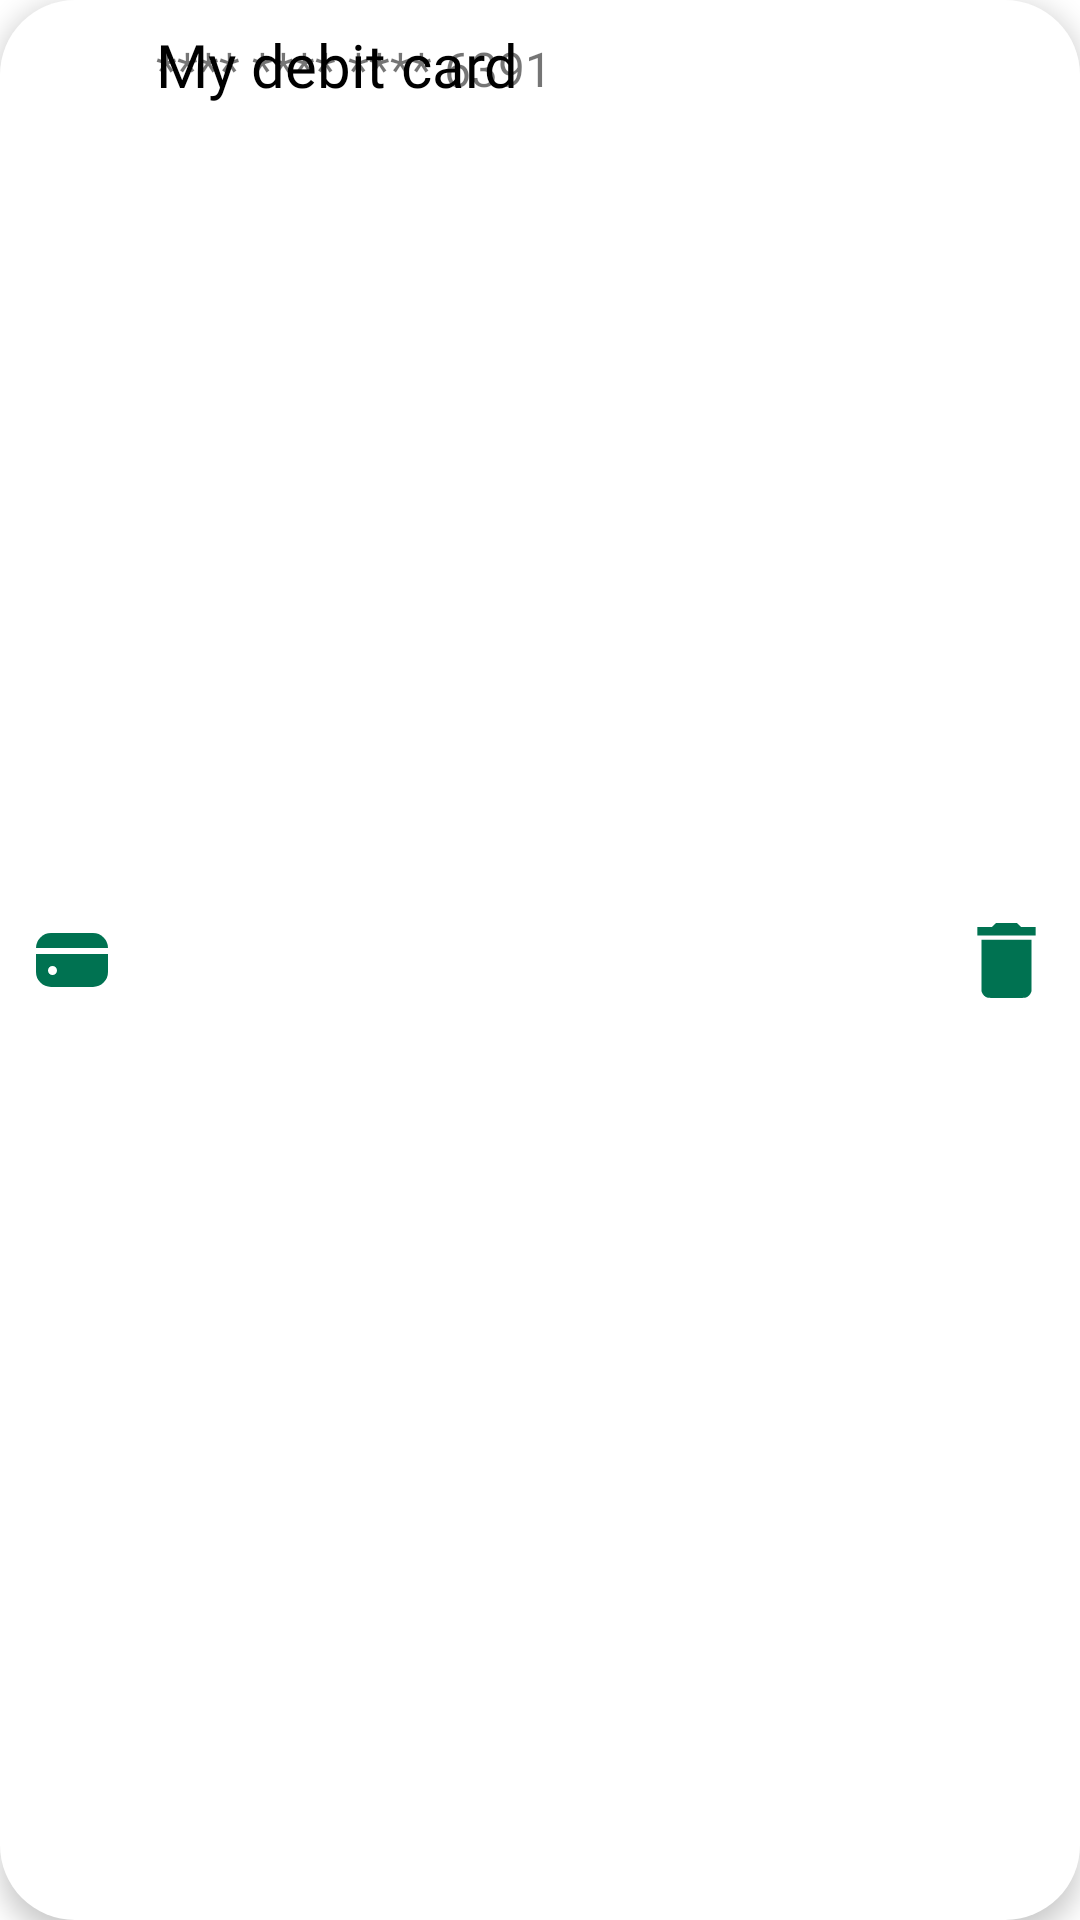

Point at icon controls on the screen. Image size 1080px×1920px, points as point (x, y).
credit card: point (72, 960)
delete: point (1006, 960)
